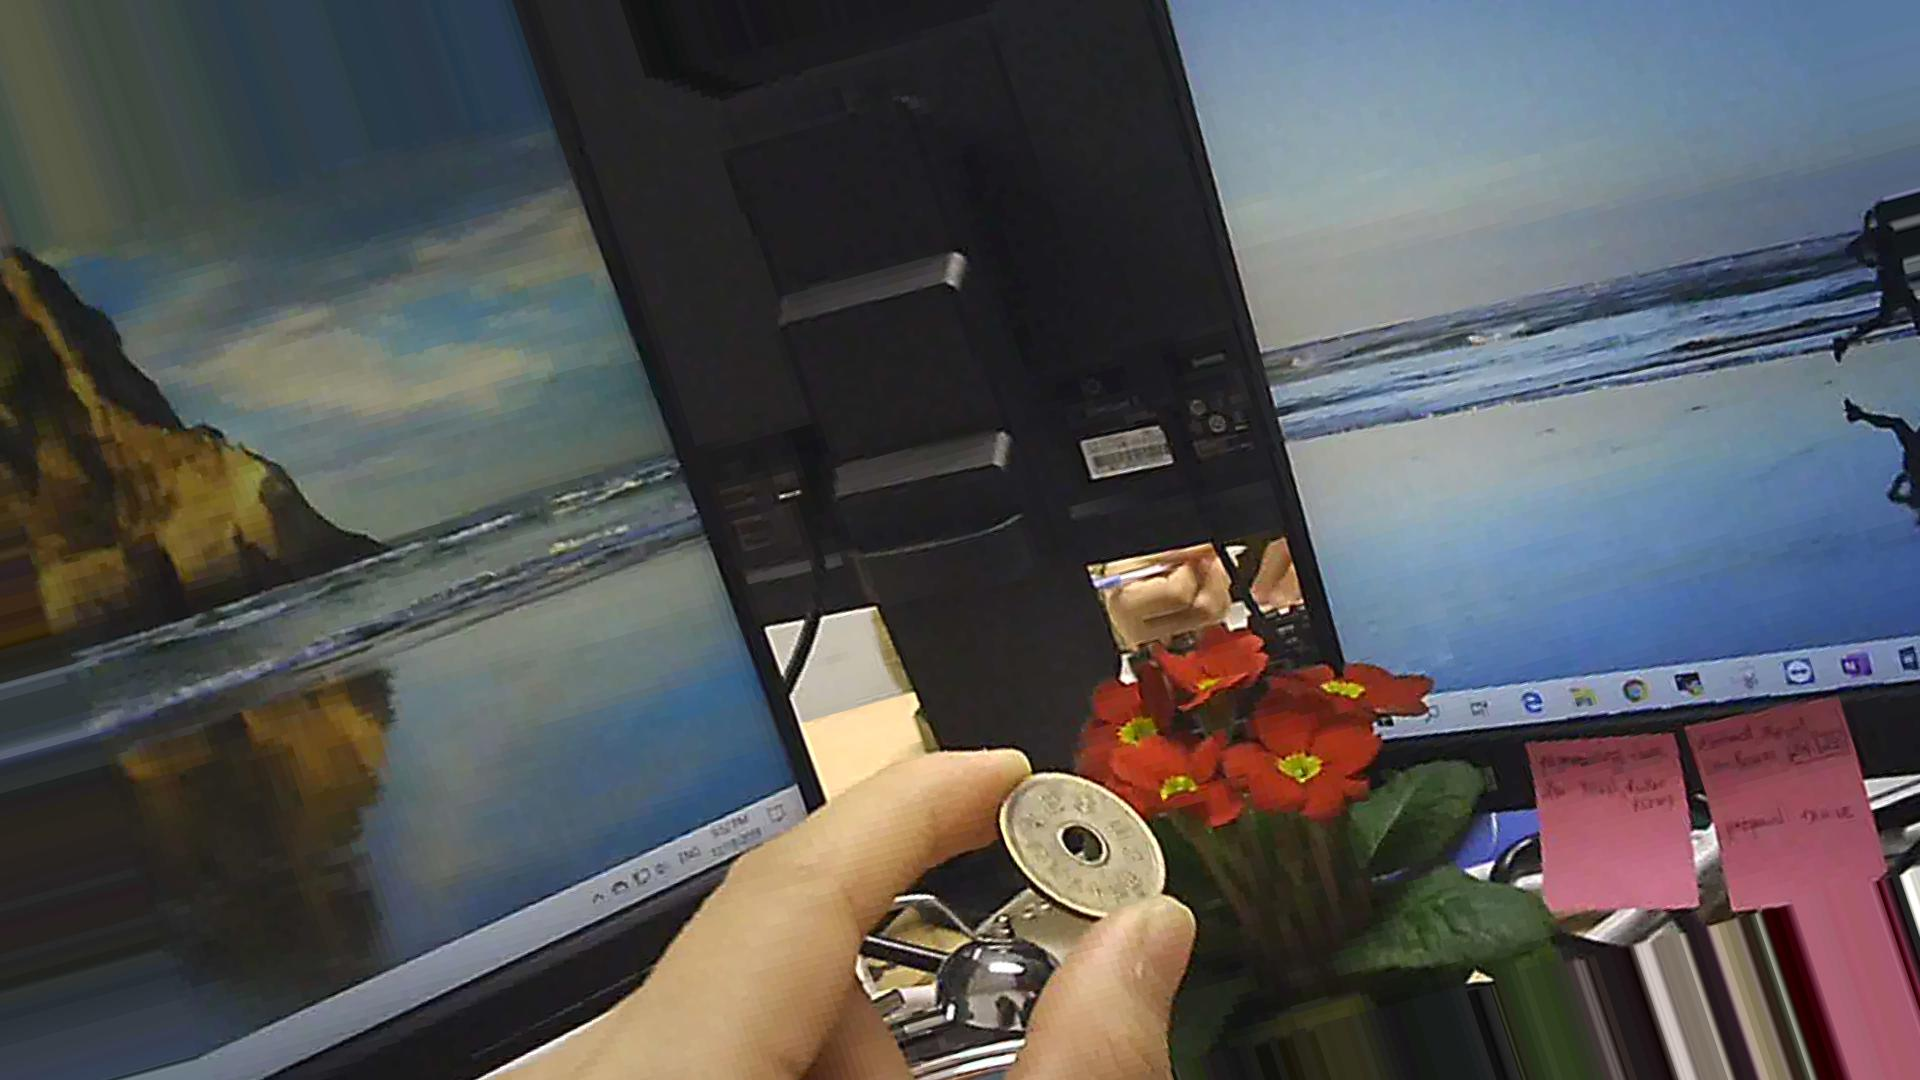5 Yen: (978, 753, 1184, 930)
